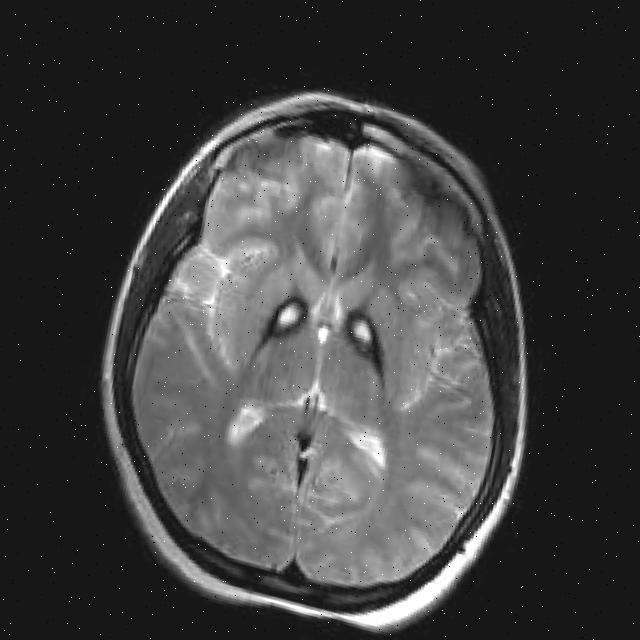NoTumor: (47, 36, 595, 640)
